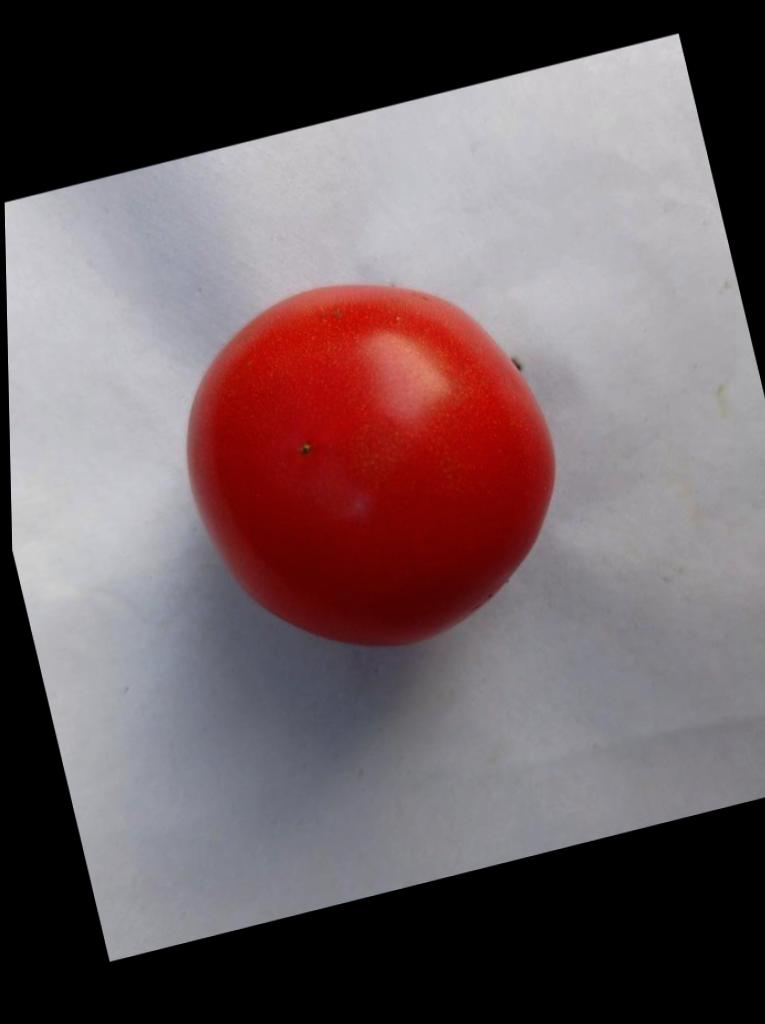tomato: (186, 286, 551, 647)
